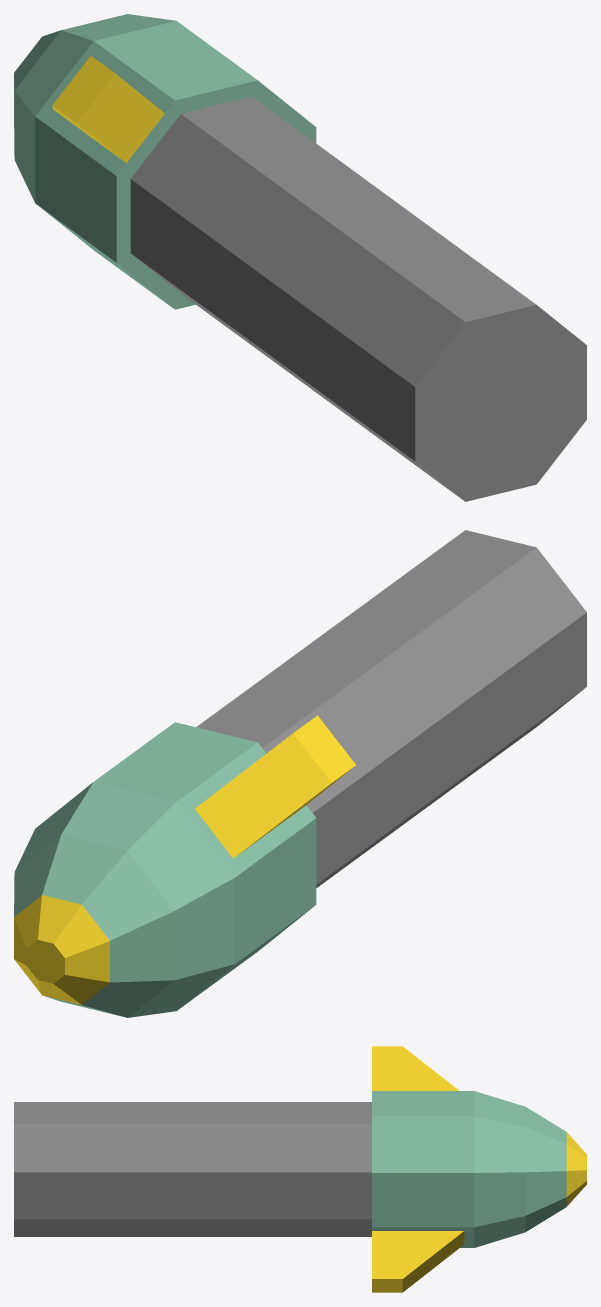
File: ammo_rocketModern.gltf
3 renders of one model, top to bottom at view 1: azimuth 30°, elevation 25°; view 2: azimuth 150°, elevation 25°; view 3: azimuth 270°, elevation 25°, orthographic. The views are drawn at different scales.
Parts seen in each view (by area): view 1: ammo_rocketModern; view 2: ammo_rocketModern; view 3: ammo_rocketModern.
Boxes of the visible parts, x1,y1,x2,y2 form: ammo_rocketModern: (14, 14, 586, 501); ammo_rocketModern: (14, 530, 586, 1017); ammo_rocketModern: (14, 1046, 586, 1292).
Size of the model in its own units: 0.076 by 0.076 by 0.2144.
